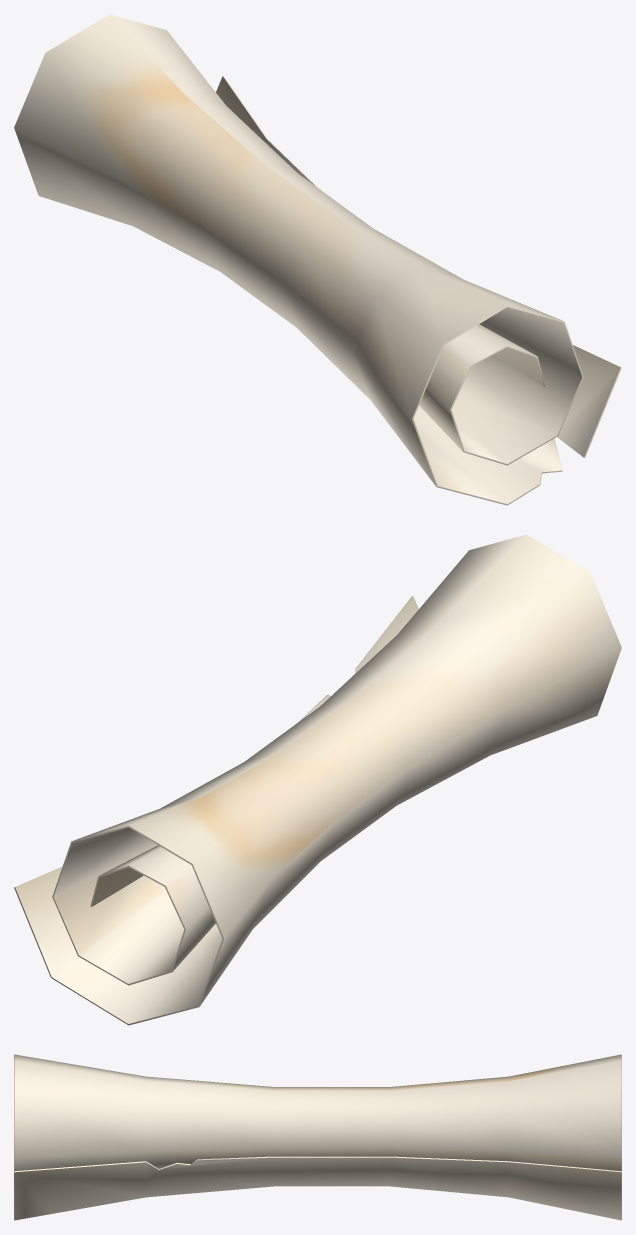
Rendered from TempScroll.fbx.
3 renders of one model, top to bottom at view 1: azimuth 30°, elevation 25°; view 2: azimuth 150°, elevation 25°; view 3: azimuth 270°, elevation 25°, orthographic. The views are drawn at different scales.
Visible parts, largest first — view 1: Spiral; view 2: Spiral; view 3: Spiral.
Boxes of the visible parts, x1,y1,x2,y2 form: Spiral: (14,14,621,505); Spiral: (14,534,621,1025); Spiral: (14,1054,621,1220).
Size of the model in its own units: 550 by 500 by 1805.
